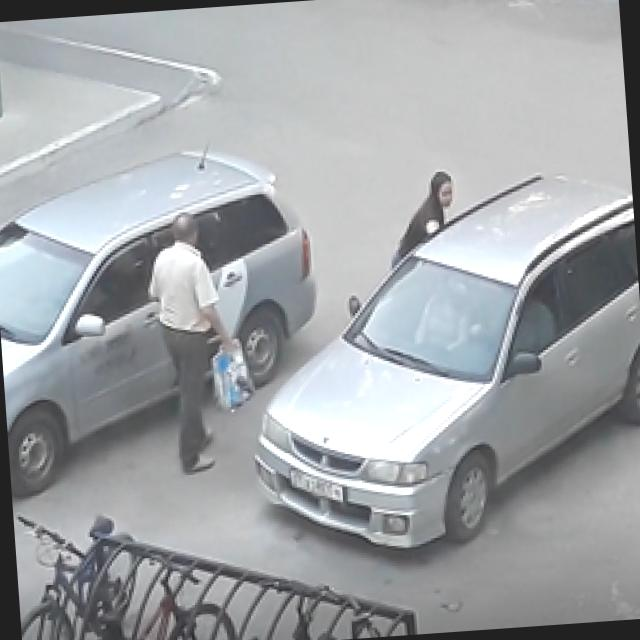person: (142, 212, 245, 474), (386, 170, 460, 270)
